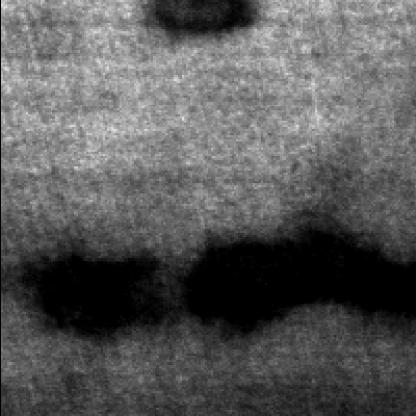patches: (187, 224, 416, 330), (31, 247, 175, 337), (144, 0, 266, 42)
